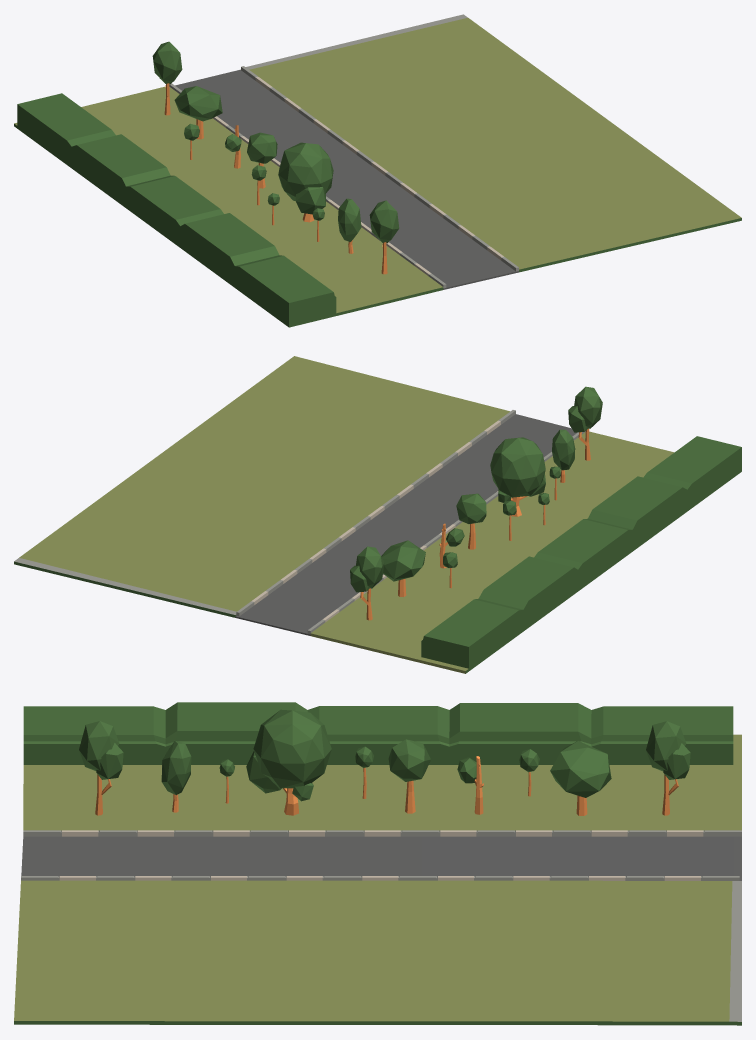
File: Gym_Park.fbx
3 renders of one model, top to bottom at view 1: azimuth 30°, elevation 25°; view 2: azimuth 150°, elevation 25°; view 3: azimuth 270°, elevation 25°, orthographic. The views are drawn at different scales.
Visible parts, largest first — view 1: Gym_Park; view 2: Gym_Park; view 3: Gym_Park.
Part boxes in pixels (x1,y1,x2,y2): Gym_Park: [14, 14, 741, 327]; Gym_Park: [14, 356, 741, 673]; Gym_Park: [14, 702, 741, 1025].
Size of the model in its own units: 20.99 by 3.59 by 22.54.
